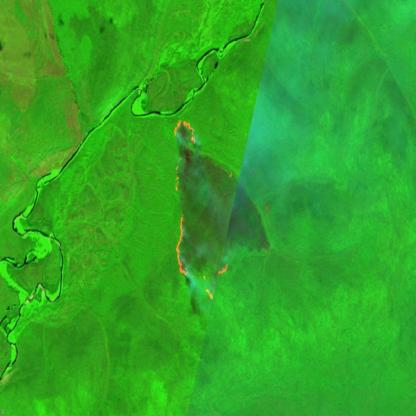fire: (170, 116, 235, 304)
